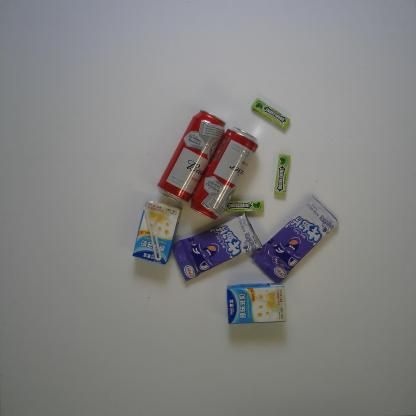Alcohol: (154, 107, 228, 205), (187, 125, 259, 220)
Candy: (248, 193, 340, 286), (171, 209, 263, 284)
Gum: (250, 98, 292, 131), (272, 153, 292, 197), (223, 198, 266, 214)
Milk: (132, 199, 184, 268), (225, 280, 287, 326)
